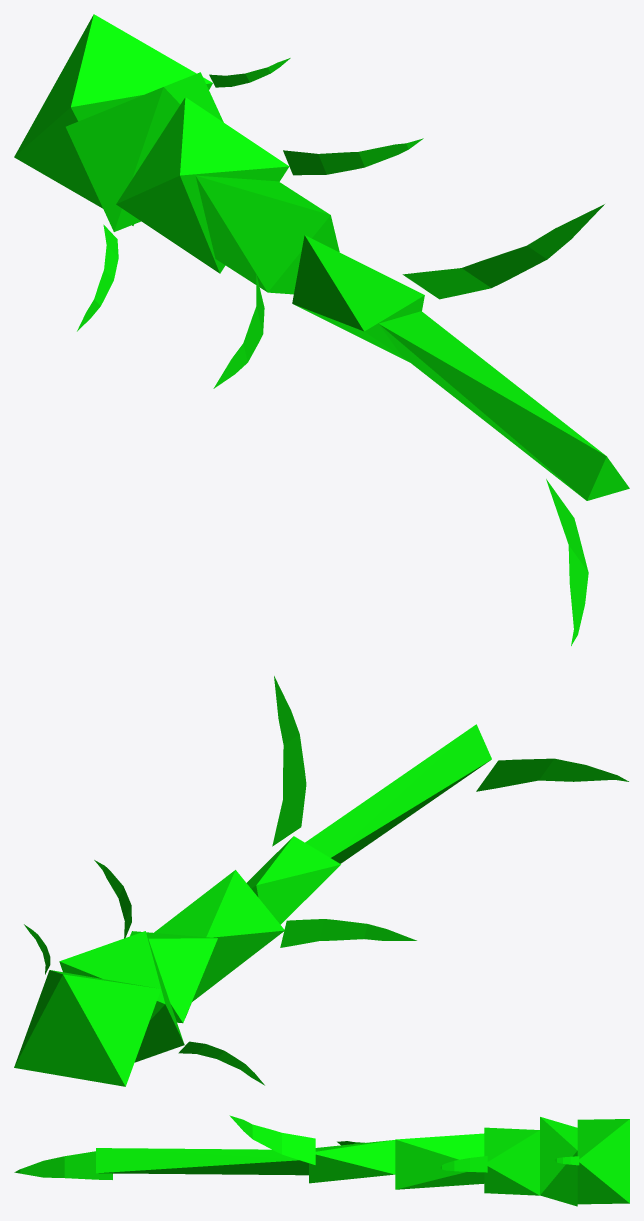
The model's file is usm_10_Beer_2018-07-18_8.obj.
3 views of the same model, one above another, from view 1: azimuth 30°, elevation 25°; view 2: azimuth 150°, elevation 25°; view 3: azimuth 270°, elevation 25° (orthographic). The views are drawn at different scales.
Parts seen in each view (by area): view 1: vid_13, vid_7, vid_3, vid_9, vid_5, vid_11, vid_12, vid_8, vid_14, vid_10, vid_6; view 2: vid_3, vid_13, vid_9, vid_5, vid_11, vid_7, vid_12, vid_14, vid_10, vid_6, vid_8; view 3: vid_13, vid_3, vid_9, vid_7, vid_11, vid_5, vid_12, vid_14, vid_8, vid_4.
Boxes of the visible parts, x1,y1,x2,y2 form: vid_13: (379, 311, 629, 500); vid_7: (116, 97, 289, 273); vid_3: (14, 14, 212, 225); vid_9: (195, 175, 339, 294); vid_5: (66, 72, 223, 231); vid_11: (292, 235, 424, 362); vid_12: (402, 204, 604, 299); vid_8: (283, 138, 423, 175); vid_14: (546, 479, 588, 645); vid_10: (213, 274, 264, 388); vid_6: (77, 224, 118, 331); vid_3: (14, 970, 160, 1086); vid_13: (305, 724, 491, 863); vid_9: (154, 870, 284, 1001); vid_5: (59, 931, 184, 1062); vid_11: (247, 836, 340, 924); vid_7: (130, 931, 217, 1023); vid_12: (272, 676, 306, 846); vid_14: (476, 758, 628, 791); vid_10: (280, 919, 416, 947); vid_6: (178, 1041, 264, 1085); vid_8: (94, 860, 131, 938); vid_13: (96, 1148, 308, 1175); vid_3: (577, 1119, 629, 1204); vid_9: (395, 1133, 484, 1189); vid_7: (484, 1127, 539, 1195); vid_11: (309, 1140, 395, 1183); vid_5: (540, 1117, 577, 1206); vid_12: (229, 1115, 315, 1164); vid_14: (14, 1151, 112, 1179); vid_8: (440, 1156, 487, 1172); vid_4: (554, 1156, 579, 1165).
Bounding box in the file's own units: 9.46 × 7.62 × 31.52.
